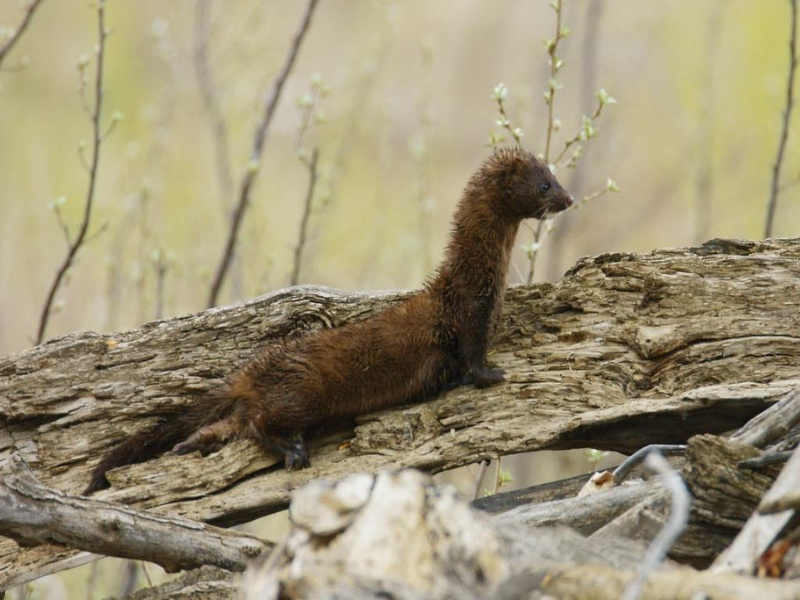minkish: (82, 145, 576, 506)
